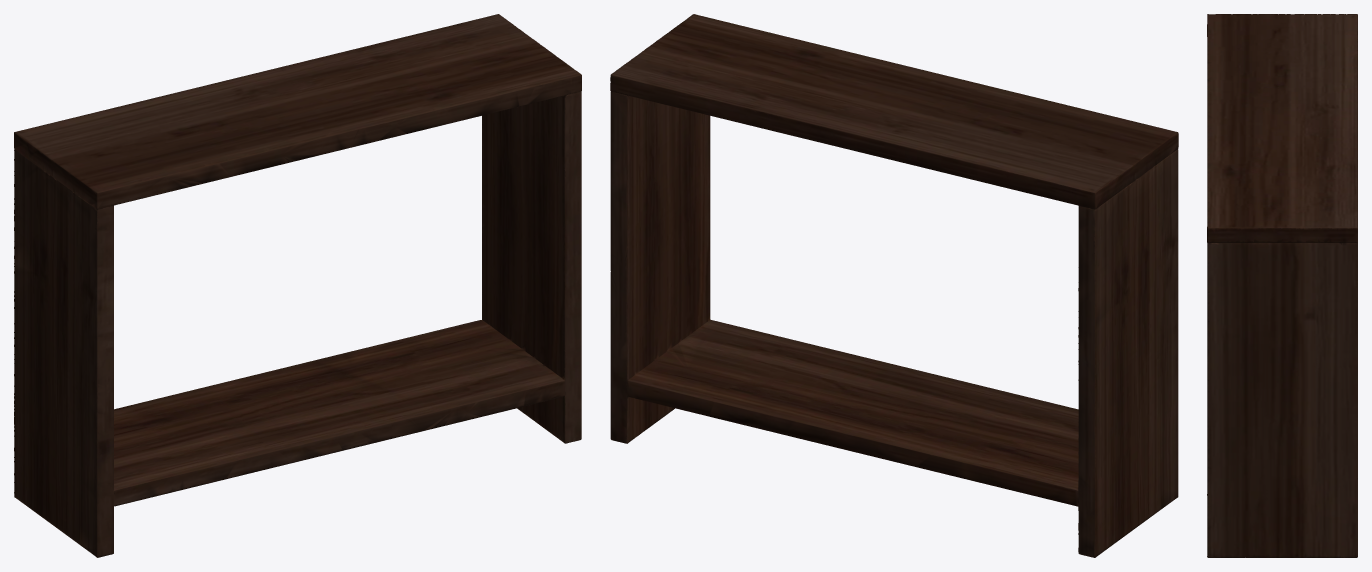
The model's file is console_table.glb.
The picture shows the model from 3 angles, left to right: view 1: azimuth 30°, elevation 25°; view 2: azimuth 150°, elevation 25°; view 3: azimuth 270°, elevation 25°; orthographic projection. The views are drawn at different scales.
Visible parts, largest first — view 1: geometry_0; view 2: geometry_0; view 3: geometry_0.
Boxes of the visible parts, <box> form: geometry_0: <box>14,14,581,557</box>; geometry_0: <box>610,14,1178,557</box>; geometry_0: <box>1207,14,1357,557</box>.
Bounding box in the file's own units: 1.2 × 0.8641 × 0.3573.
1 material, 1 textured.
